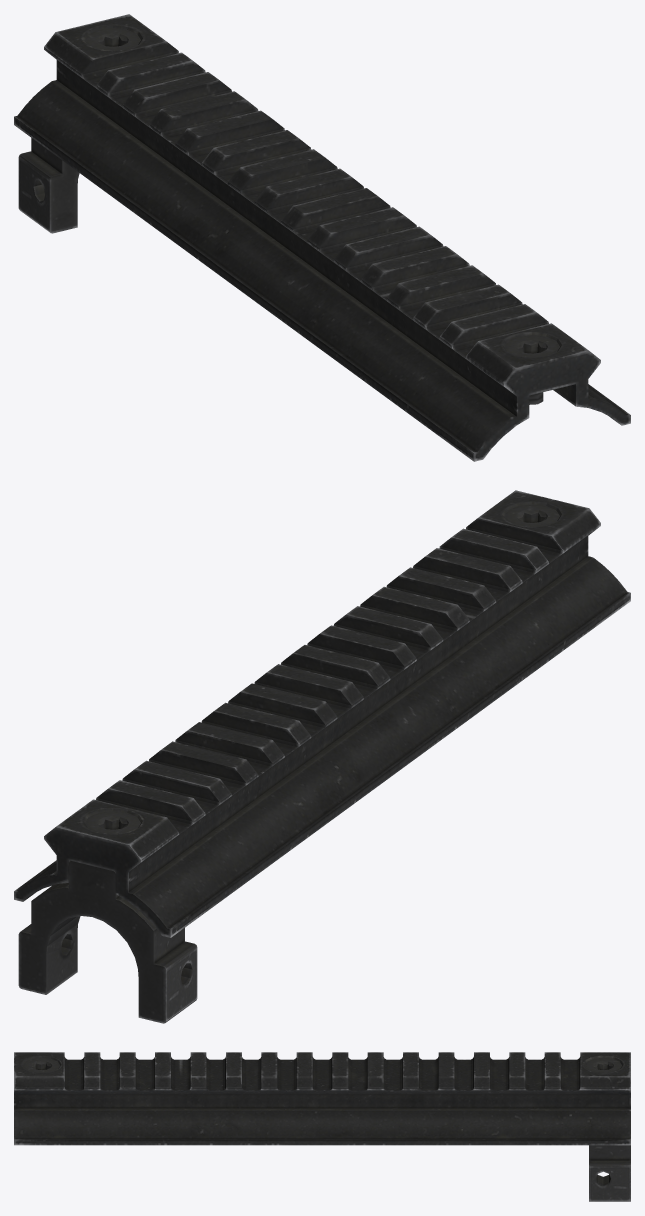
The picture shows the model from 3 angles, top to bottom: view 1: azimuth 30°, elevation 25°; view 2: azimuth 150°, elevation 25°; view 3: azimuth 270°, elevation 25°; orthographic projection. The views are drawn at different scales.
Visible parts, largest first — view 1: TW_61816df1d3a39d50044c139e_PZ_Import; view 2: TW_61816df1d3a39d50044c139e_PZ_Import; view 3: TW_61816df1d3a39d50044c139e_PZ_Import.
Part boxes in pixels (x1=…): TW_61816df1d3a39d50044c139e_PZ_Import: x1=14, y1=14, x2=630, y2=461; TW_61816df1d3a39d50044c139e_PZ_Import: x1=14, y1=490, x2=630, y2=1023; TW_61816df1d3a39d50044c139e_PZ_Import: x1=14, y1=1052, x2=630, y2=1201.
Bounding box in the file's own units: 0.0198 × 0.1007 × 0.0205.
1 material, 1 textured.
